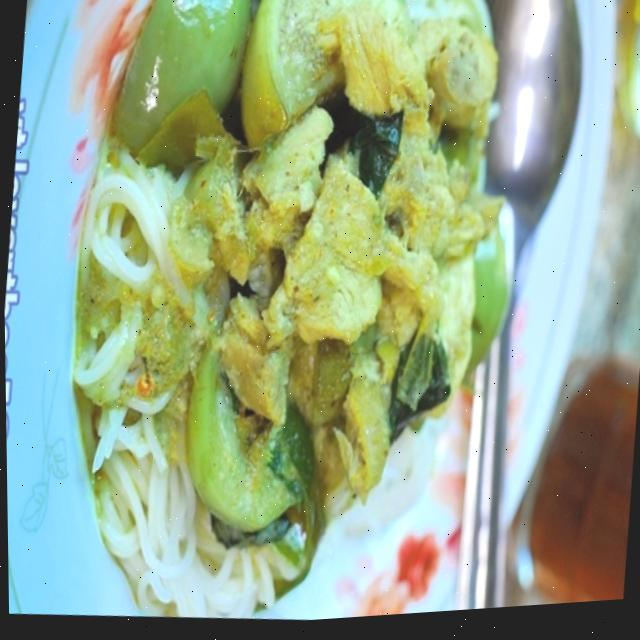猪肉菜式: (37, 0, 545, 559)
